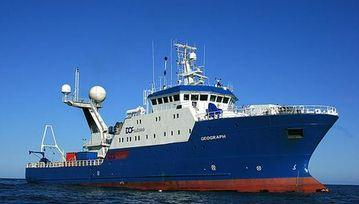Cargoship: (21, 40, 344, 185)
